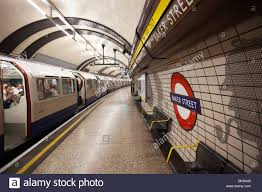London Underground: (170, 73, 200, 127)
